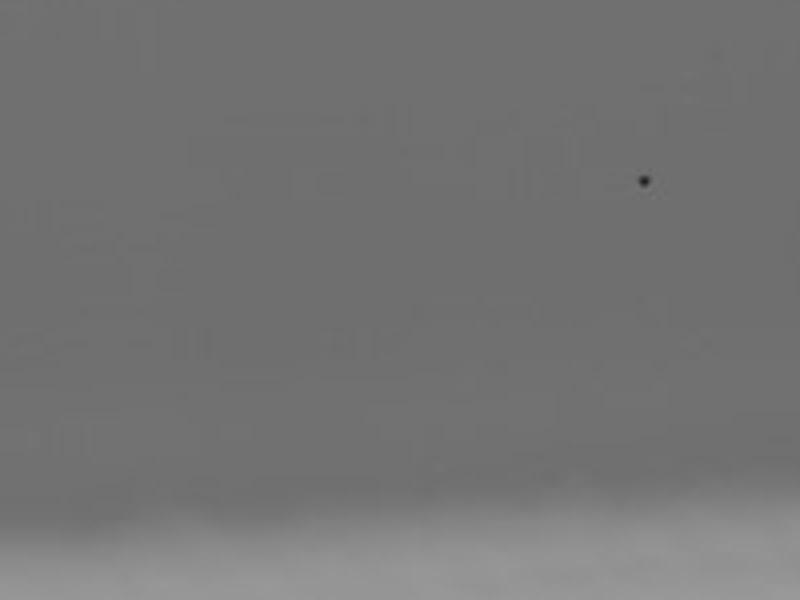defect: (634, 168, 654, 189)
